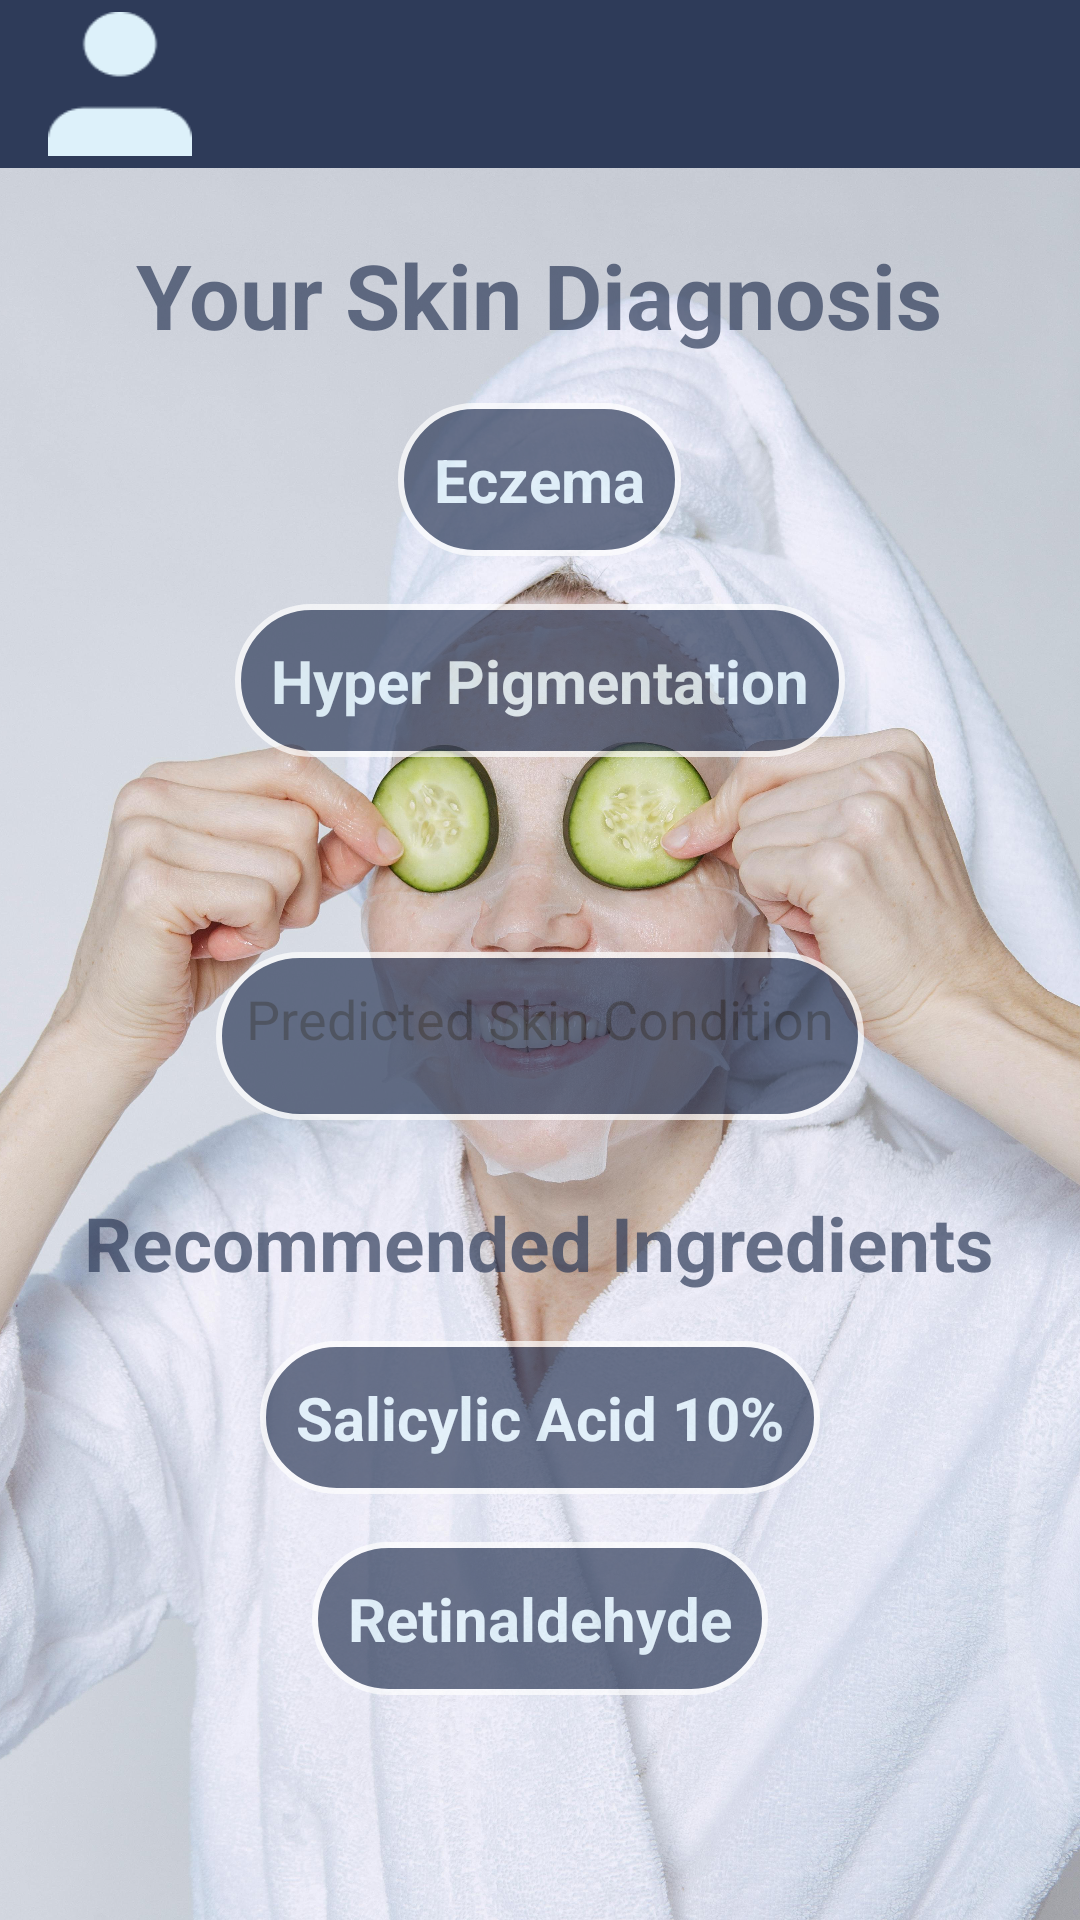

Icons on this 1080x1920 Android screen, each with the point to tap as [x,y]:
Profile Icon: [120,84]
